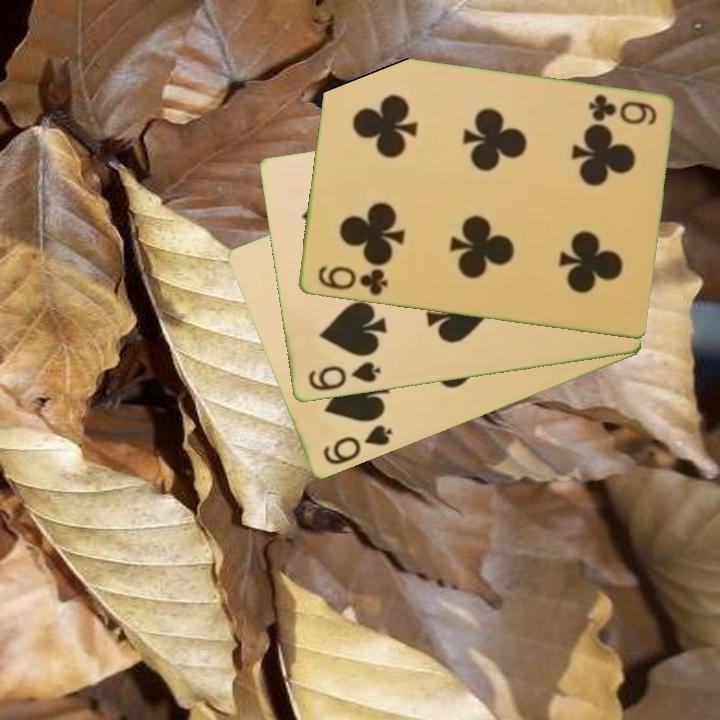6c: (584, 91, 659, 129), (314, 263, 390, 299)
6s: (319, 421, 396, 469), (304, 358, 383, 395)
